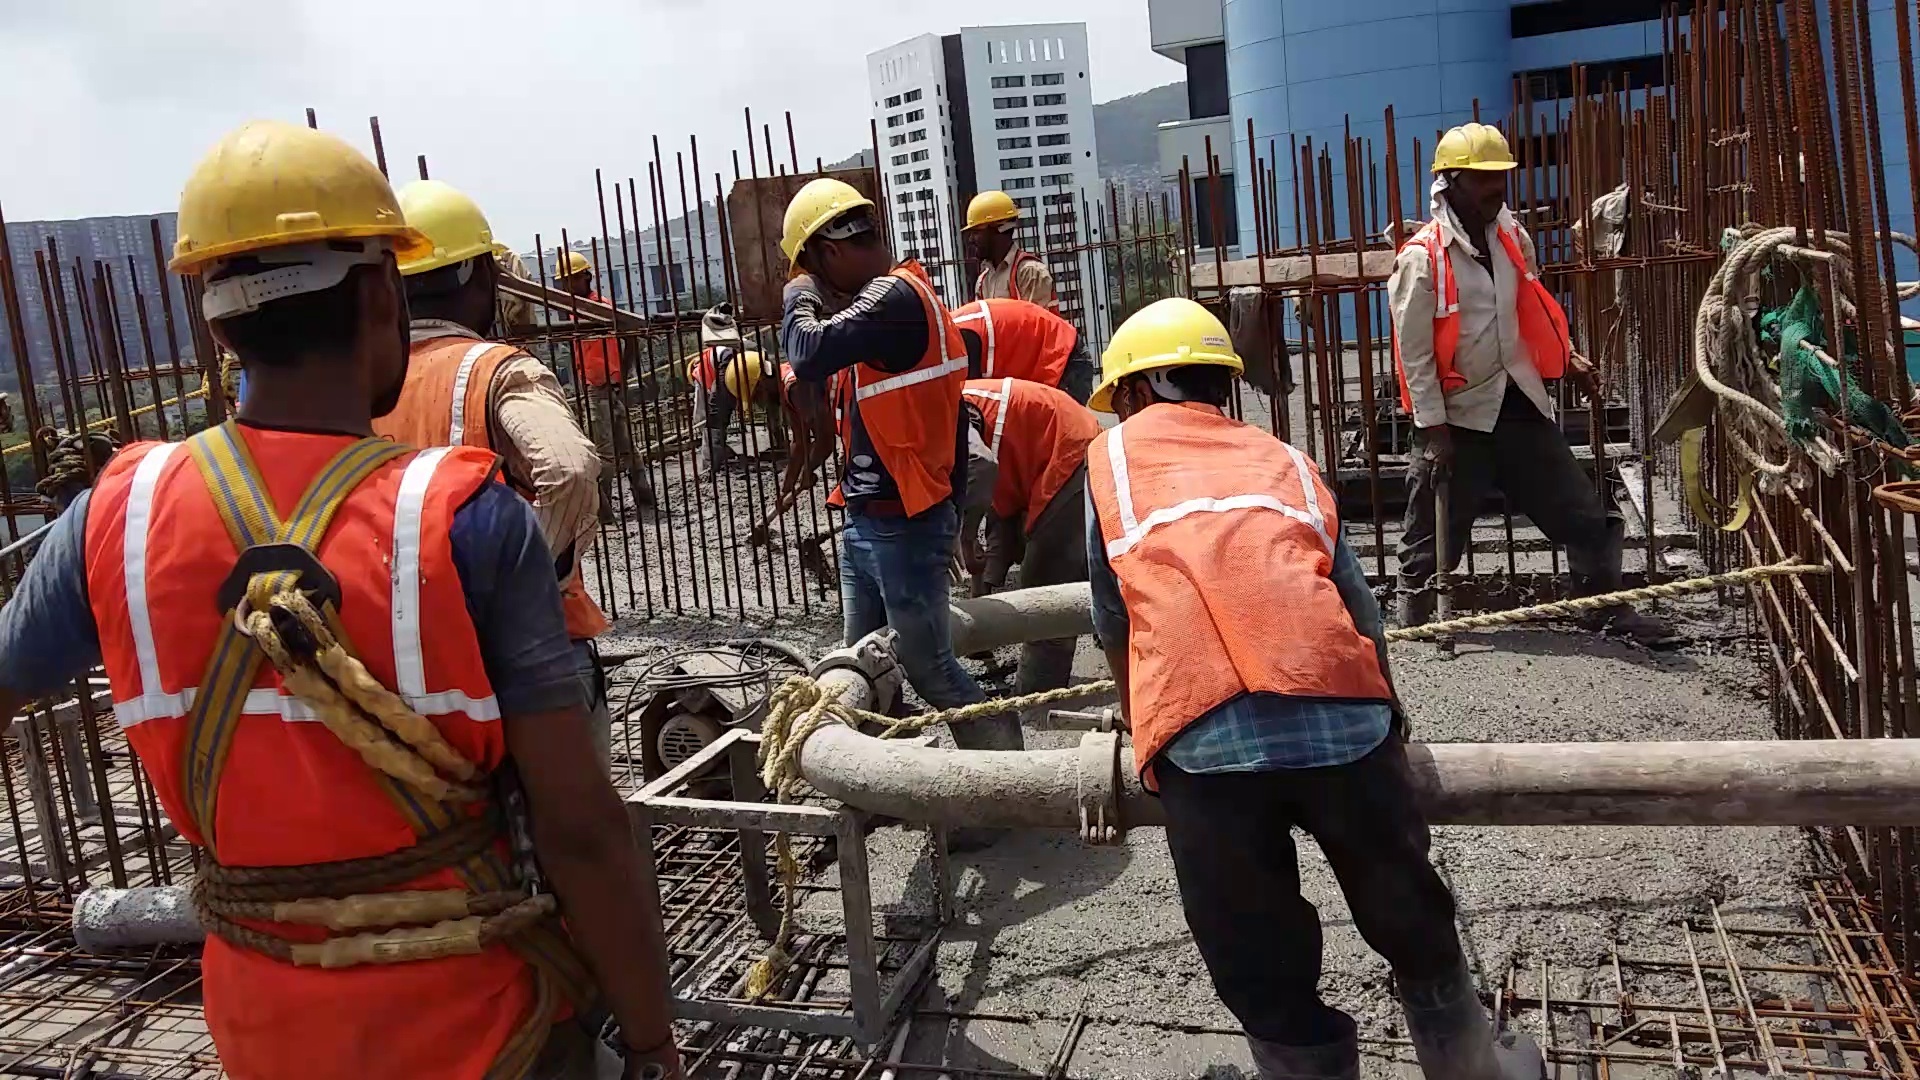SAFE: (94, 112, 520, 1077), (1069, 286, 1381, 744), (777, 167, 960, 521), (1395, 121, 1565, 429)
